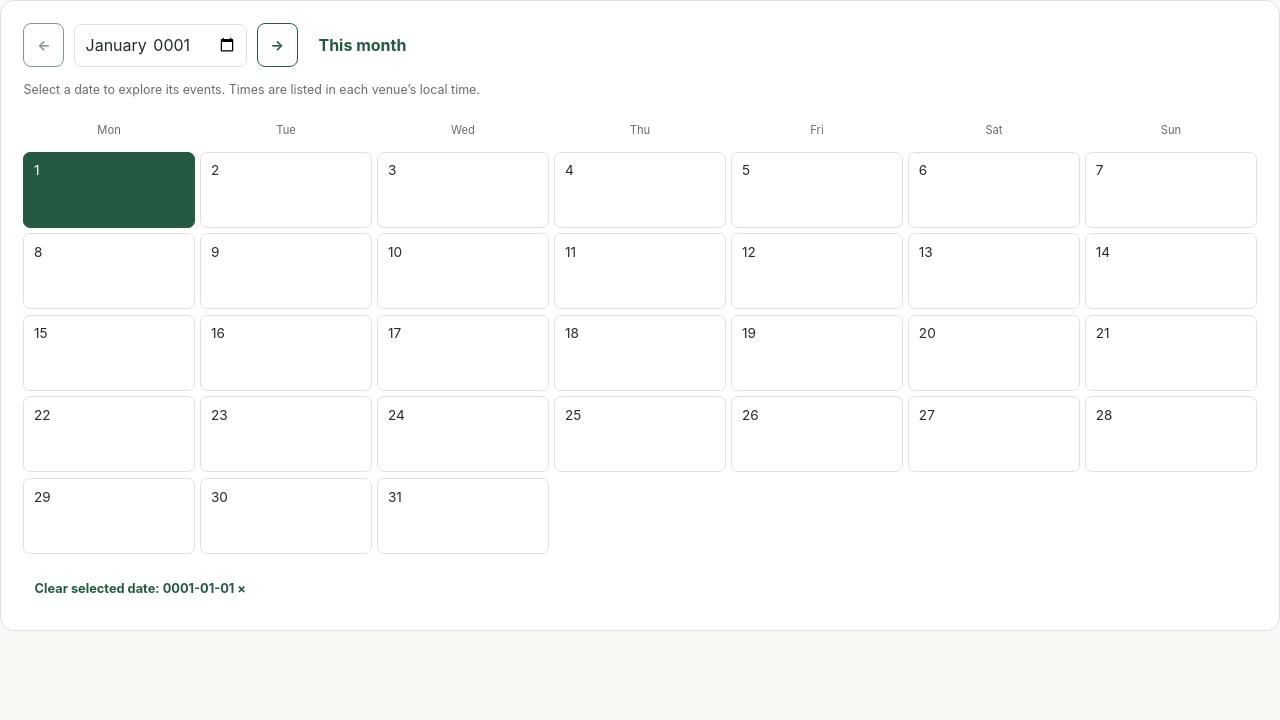
calendar navigation stays inside supported year boundaries
Expected: the button named "Previous month" is disabled, [23, 23, 64, 67]
Expected: the button named "0001-01-31, 0 events" is shown, [377, 478, 549, 554]
Replace the text in the field named "Calendar month" with "9999-12" at (160, 45), box [74, 24, 247, 67]
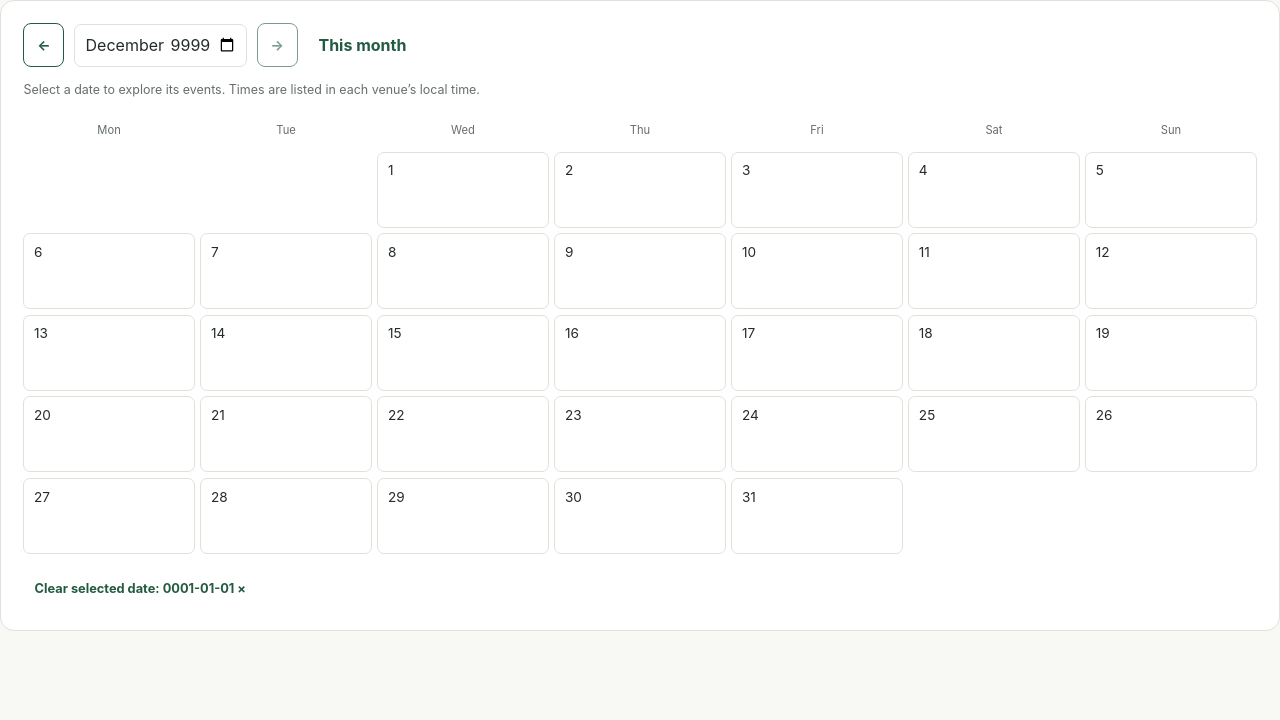
Now the button named "Next month" is disabled, box [257, 23, 298, 67]
Now the button named "9999-12-31, 0 events" is shown, box [731, 478, 903, 554]
